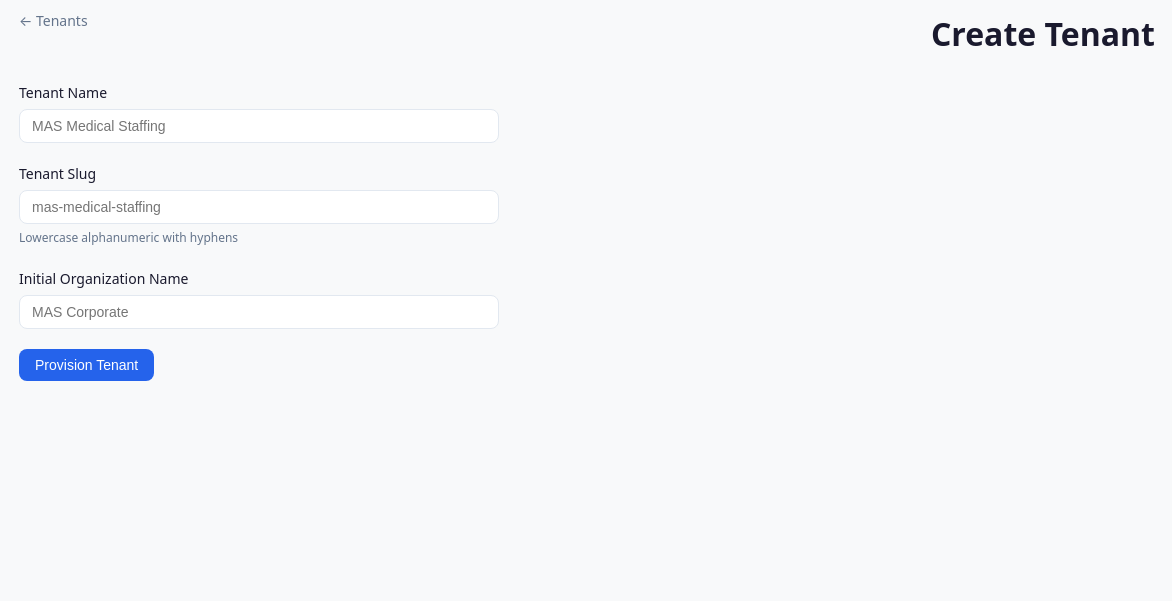
CreateTenant › should display success result with tenant and correlation IDs
In the field labelled "Tenant Name": x=259, y=126 x1=19 y1=109 x2=499 y2=143, type "Test Corp"
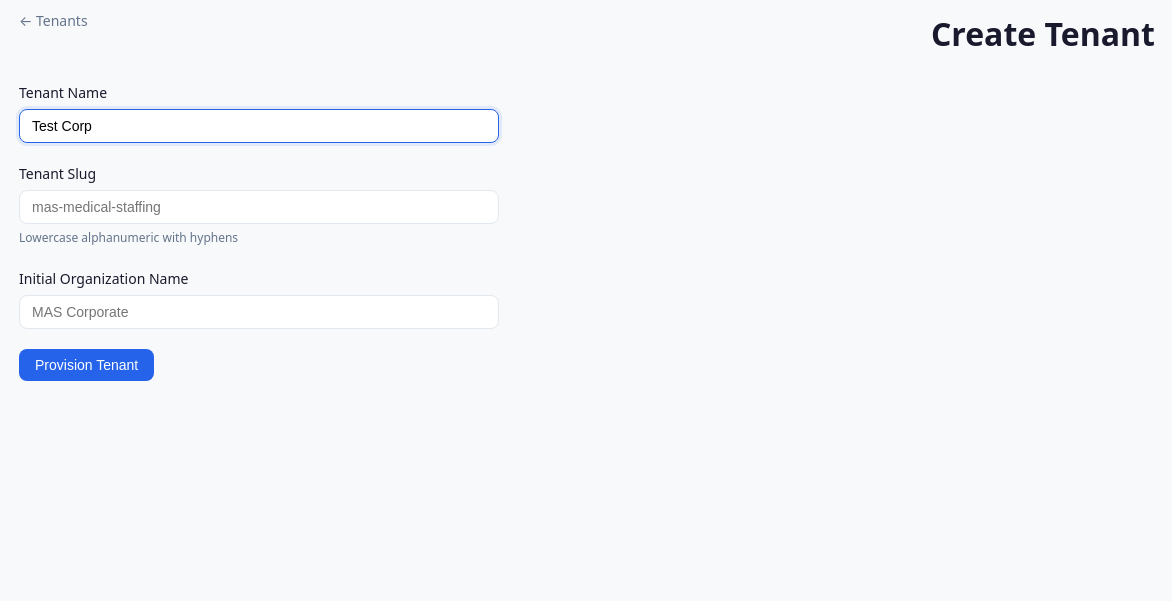
In the field labelled "Tenant Slug": x=259, y=207 x1=19 y1=190 x2=499 y2=224, type "test-corp"
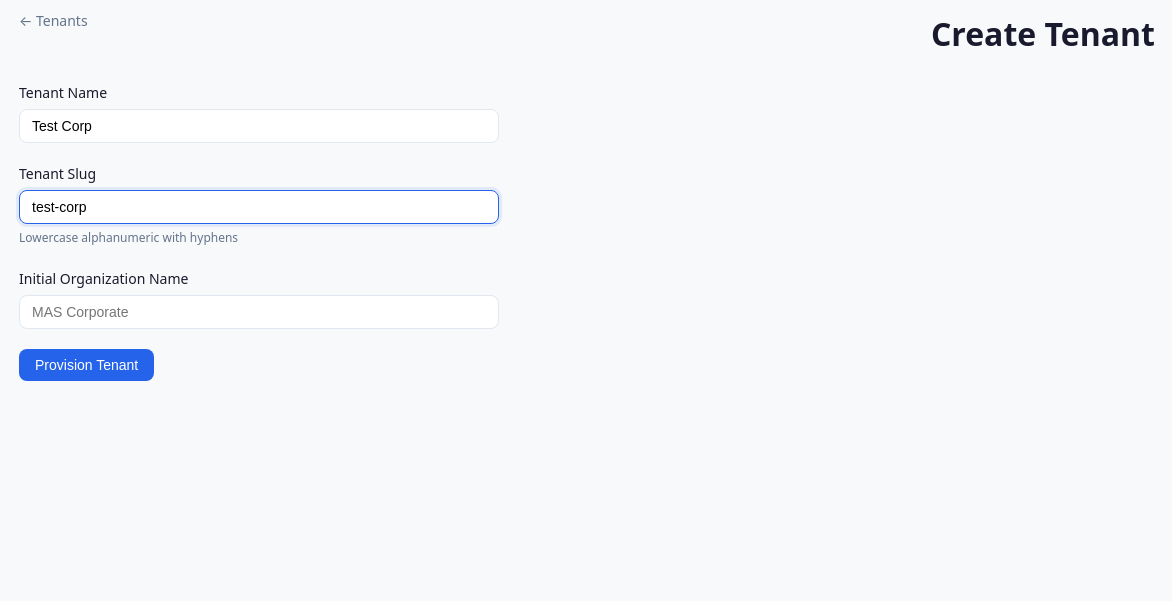
In the field labelled "Initial Organization Name": x=259, y=312 x1=19 y1=295 x2=499 y2=329, type "Test Org"
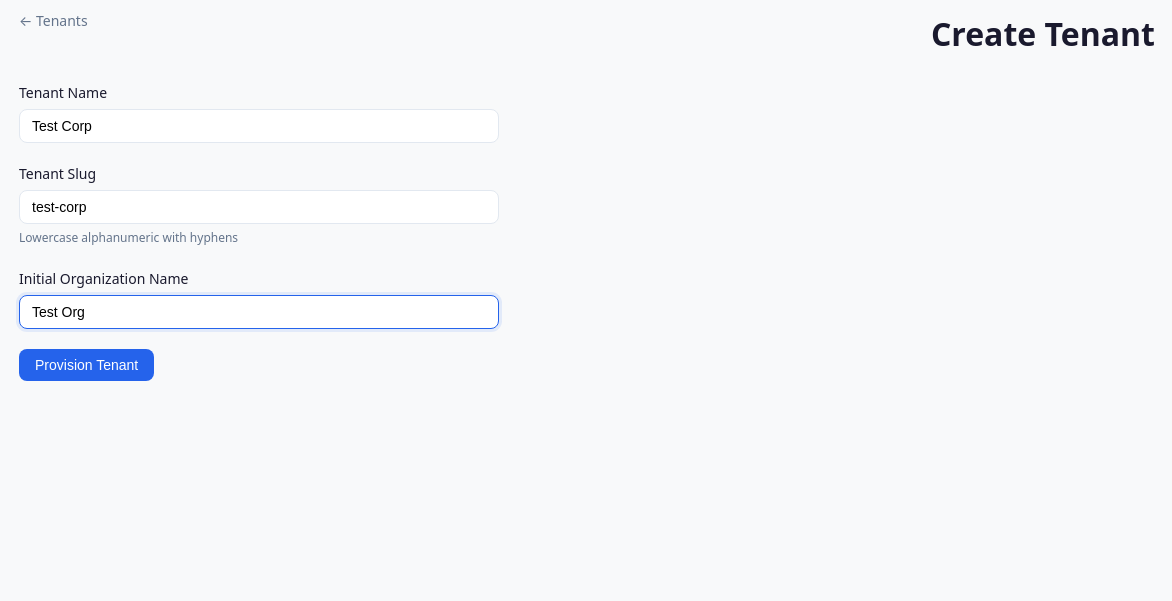
Click the button "Provision Tenant": x=87, y=365 x1=19 y1=349 x2=154 y2=381
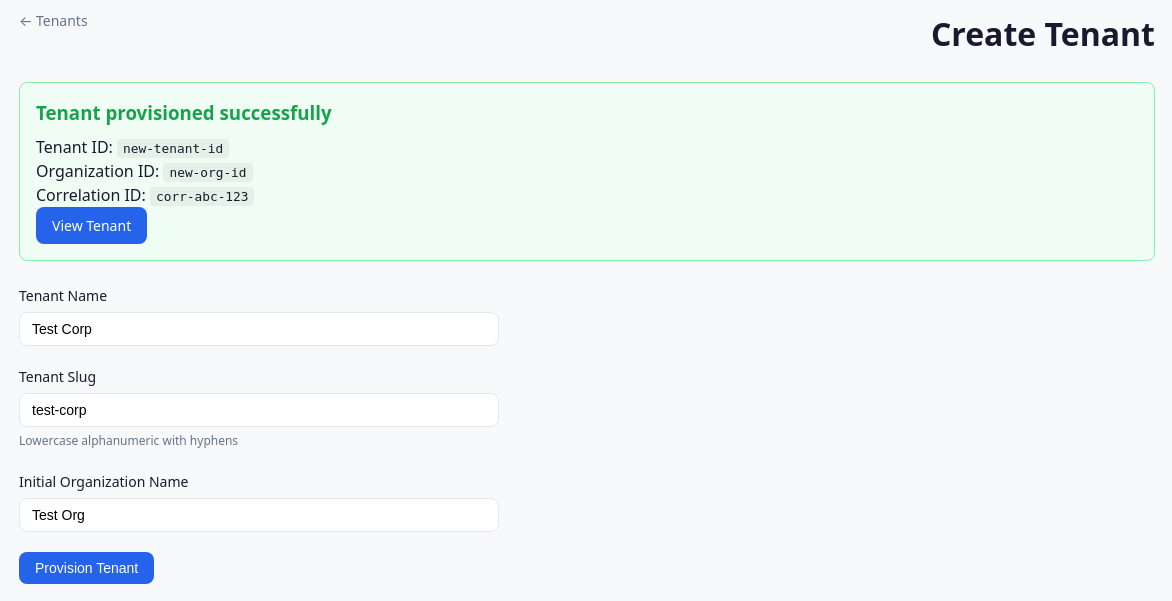
Expected: the message is shown, x1=19 y1=82 x2=1155 y2=261
Expected: the text "new-tenant-id" is shown, x1=117 y1=139 x2=229 y2=158
Expected: the text "new-org-id" is shown, x1=164 y1=163 x2=252 y2=182
